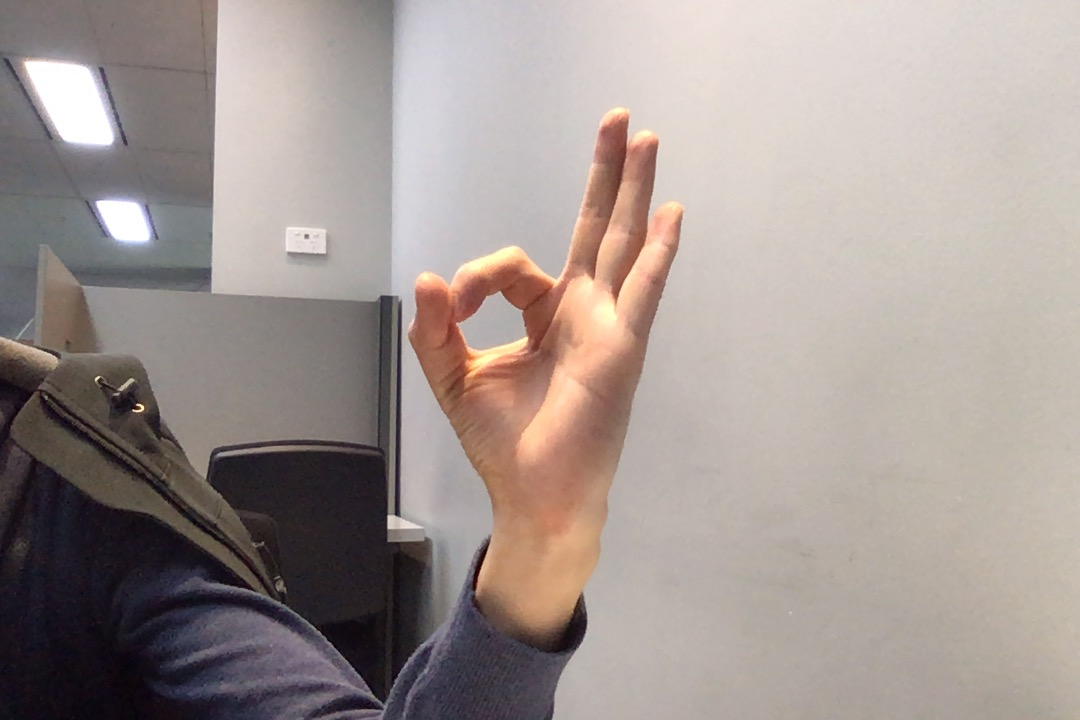oksign: (401, 96, 694, 525)
